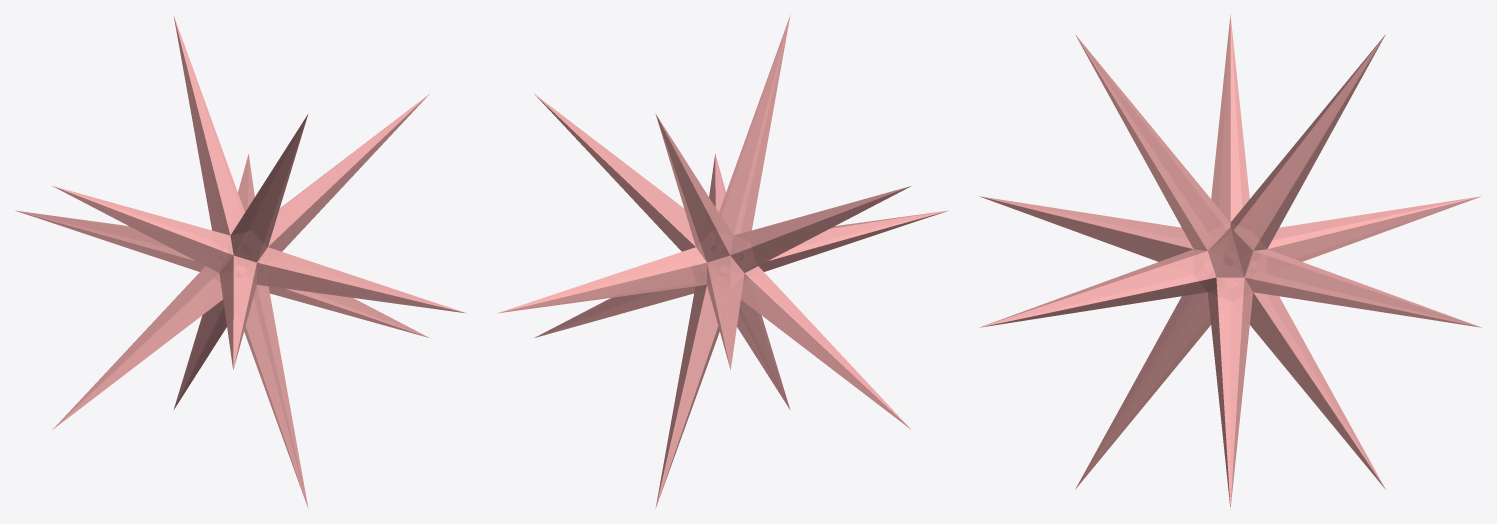
Rendered from GreatPentakisDodecahedron.obj.
3 renders of one model, left to right at view 1: azimuth 30°, elevation 25°; view 2: azimuth 150°, elevation 25°; view 3: azimuth 270°, elevation 25°, orthographic. The views are drawn at different scales.
Bounding box in the file's own units: 13.09 × 13.09 × 13.09.
